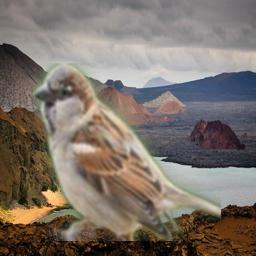Sparrow: (33, 63, 221, 241)
